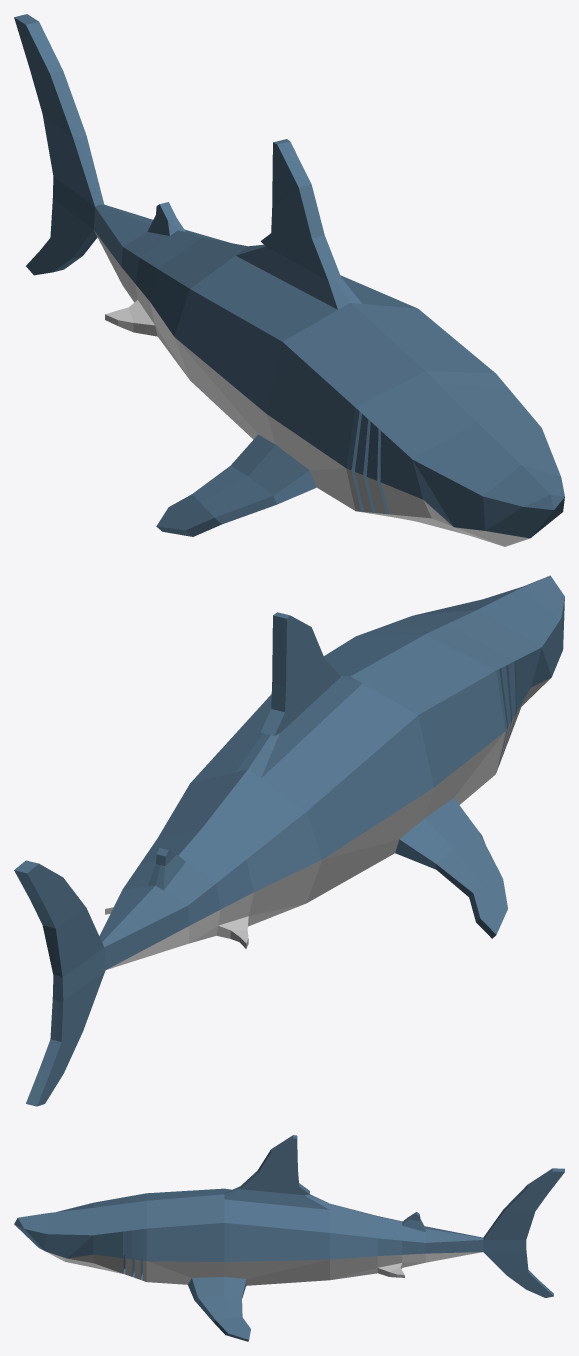
File: MOV_RIVER_MONSTER_FISH_02_STATIC.glb
3 renders of one model, top to bottom at view 1: azimuth 30°, elevation 25°; view 2: azimuth 150°, elevation 25°; view 3: azimuth 270°, elevation 25°, orthographic. The views are drawn at different scales.
Parts seen in each view (by area): view 1: Shark; view 2: Shark; view 3: Shark.
Boxes of the visible parts, box(x1,y1,x2,y2) form: Shark: box(14, 14, 564, 546); Shark: box(14, 575, 564, 1106); Shark: box(14, 1135, 564, 1341).
Size of the model in its own units: 5.83 by 5.19 by 15.83.
